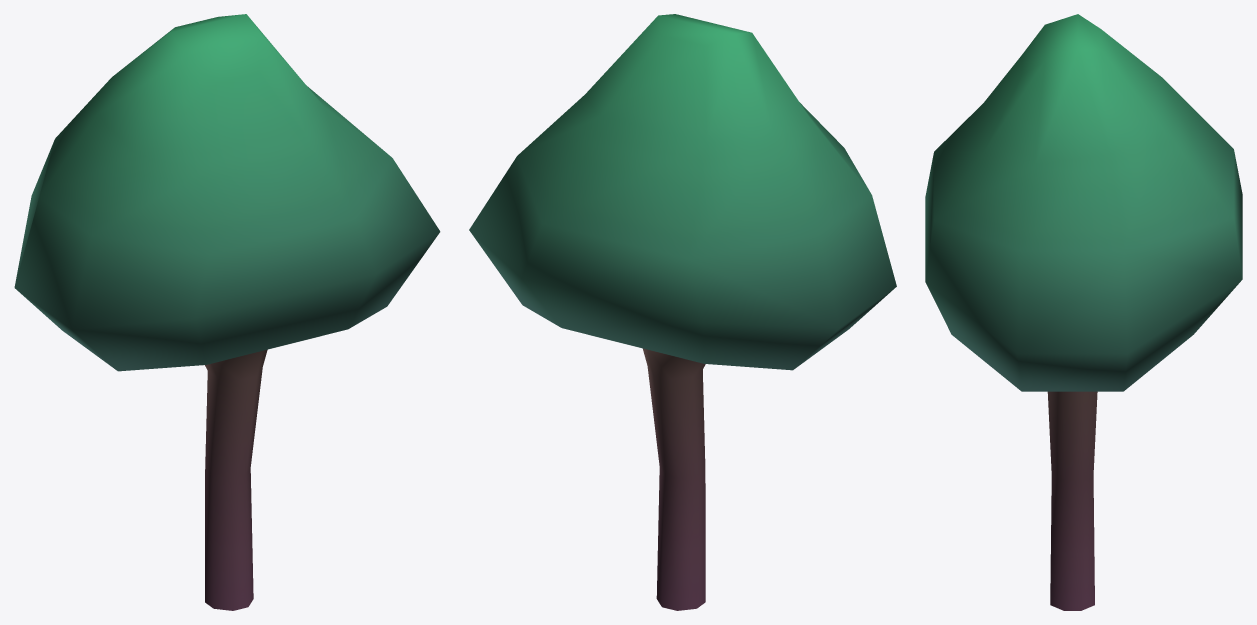
The model's file is Tree_C.fbx.
3 renders of one model, left to right at view 1: azimuth 30°, elevation 25°; view 2: azimuth 150°, elevation 25°; view 3: azimuth 270°, elevation 25°, orthographic. The views are drawn at different scales.
Visible parts, largest first — view 1: MDL_Tree_C; view 2: MDL_Tree_C; view 3: MDL_Tree_C.
Boxes of the visible parts, x1=… form: MDL_Tree_C: x1=14, y1=14, x2=440, y2=610; MDL_Tree_C: x1=469, y1=14, x2=896, y2=610; MDL_Tree_C: x1=925, y1=14, x2=1242, y2=610.
Size of the model in its own units: 2.77 by 4.17 by 2.13.
